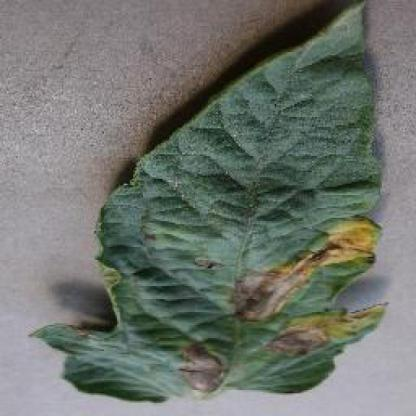Tomato_Blight: (30, 0, 387, 397)
